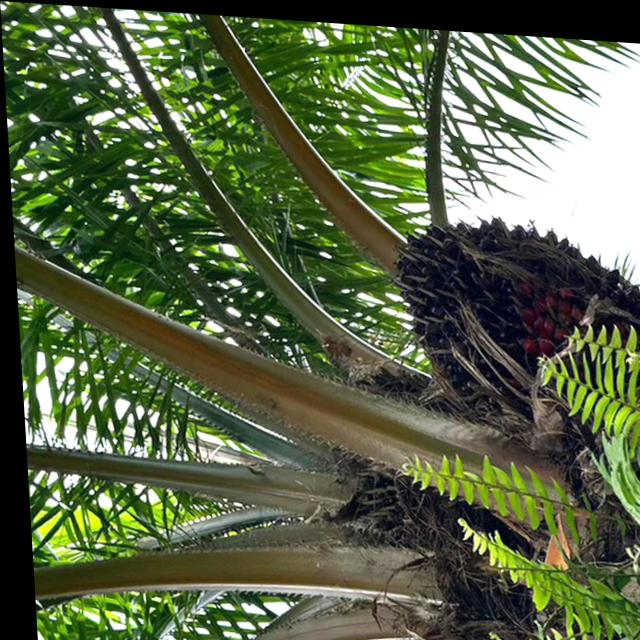ripe: (381, 189, 640, 411)
